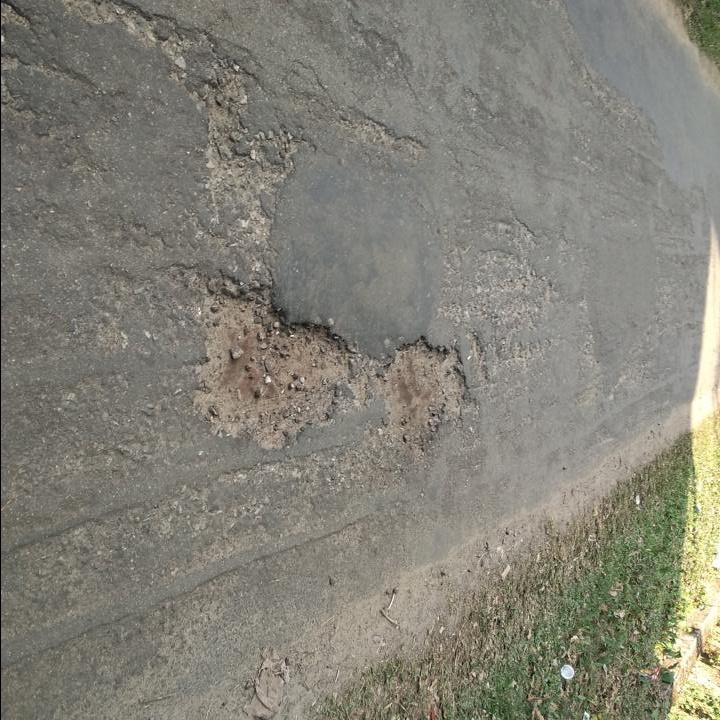pothole: (192, 280, 359, 453), (198, 58, 293, 227), (384, 334, 478, 449)
